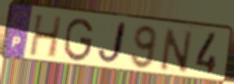4: (194, 30, 221, 79)
9: (129, 24, 159, 72)
G: (62, 17, 95, 63)
H: (27, 13, 65, 60)
J: (95, 20, 129, 68)
N: (159, 26, 194, 74)
